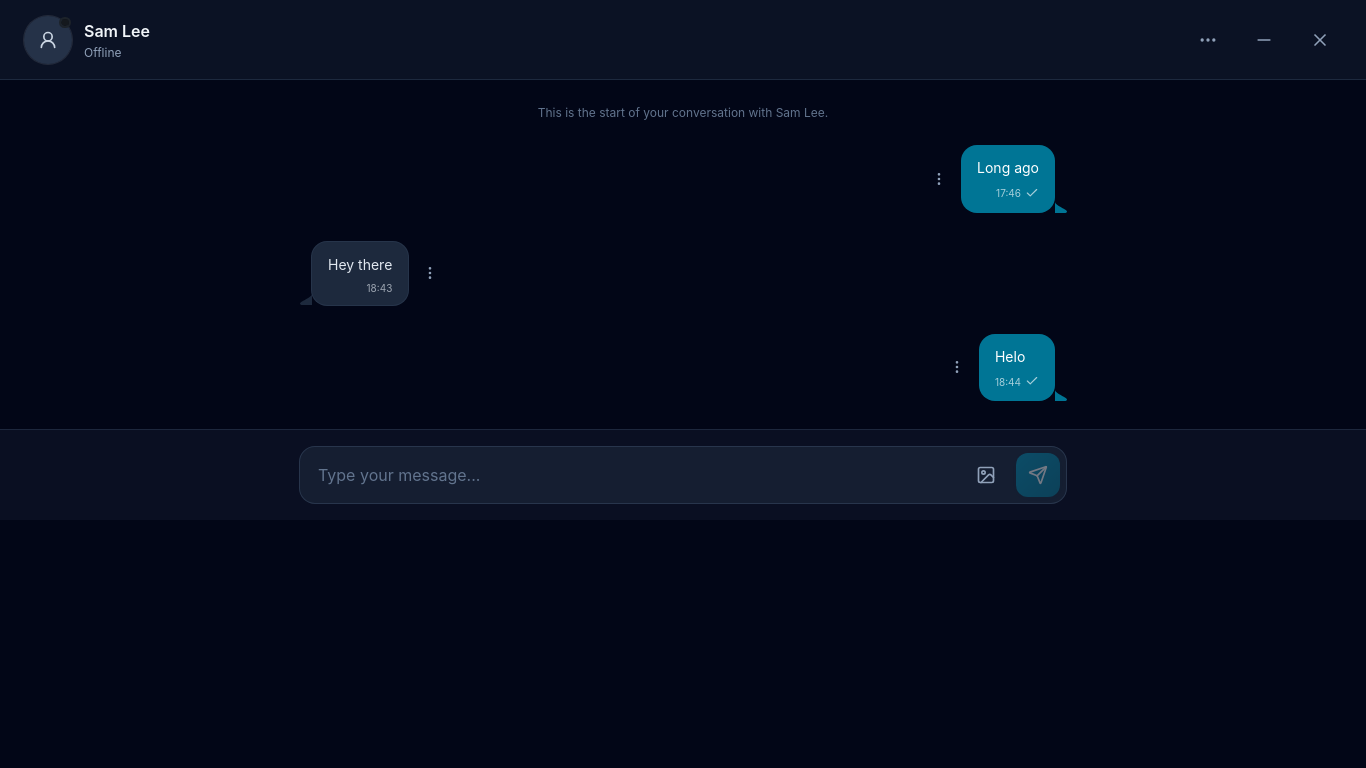
Scenario: message actions › deletes my message for everyone, leaving a placeholder
This screenshot has width=1366, height=768.
Step 1. Click the button named "Message actions" next to "Helo" → (957, 367), box [939,349,975,385]
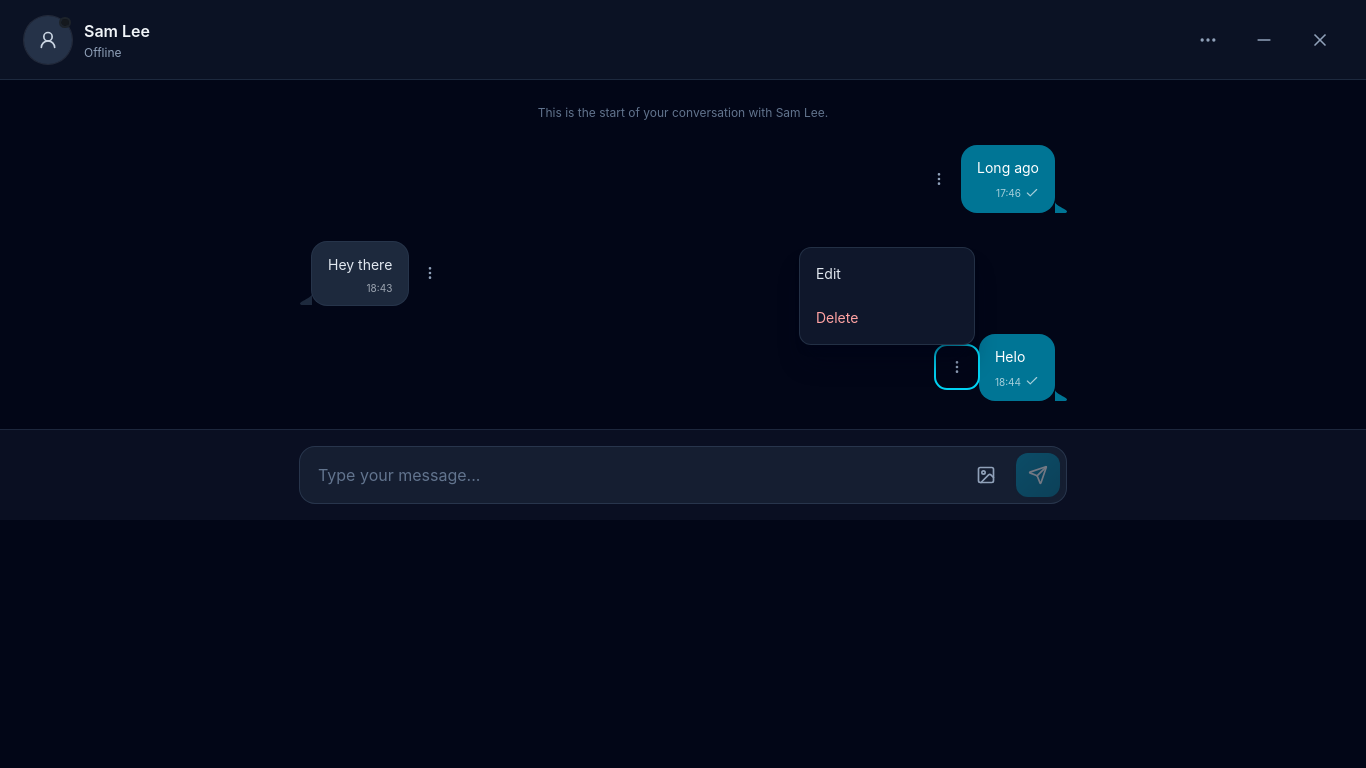
Step 2. Click the button "Delete" → (887, 318), box [804,296,970,340]
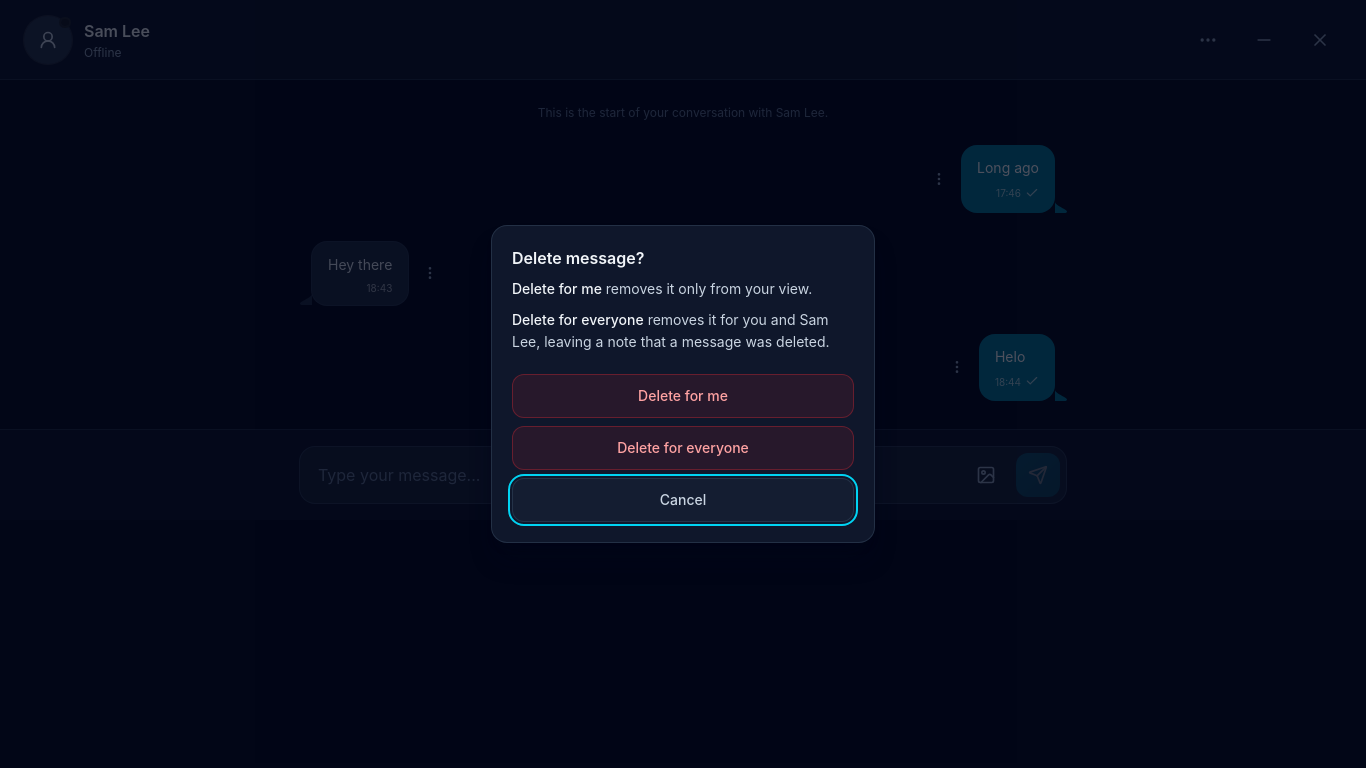
Result: the button "Delete for me" is shown at [512,374,854,418]
Step 3. Click the button "Delete for everyone" → (683, 448), box [512,426,854,470]
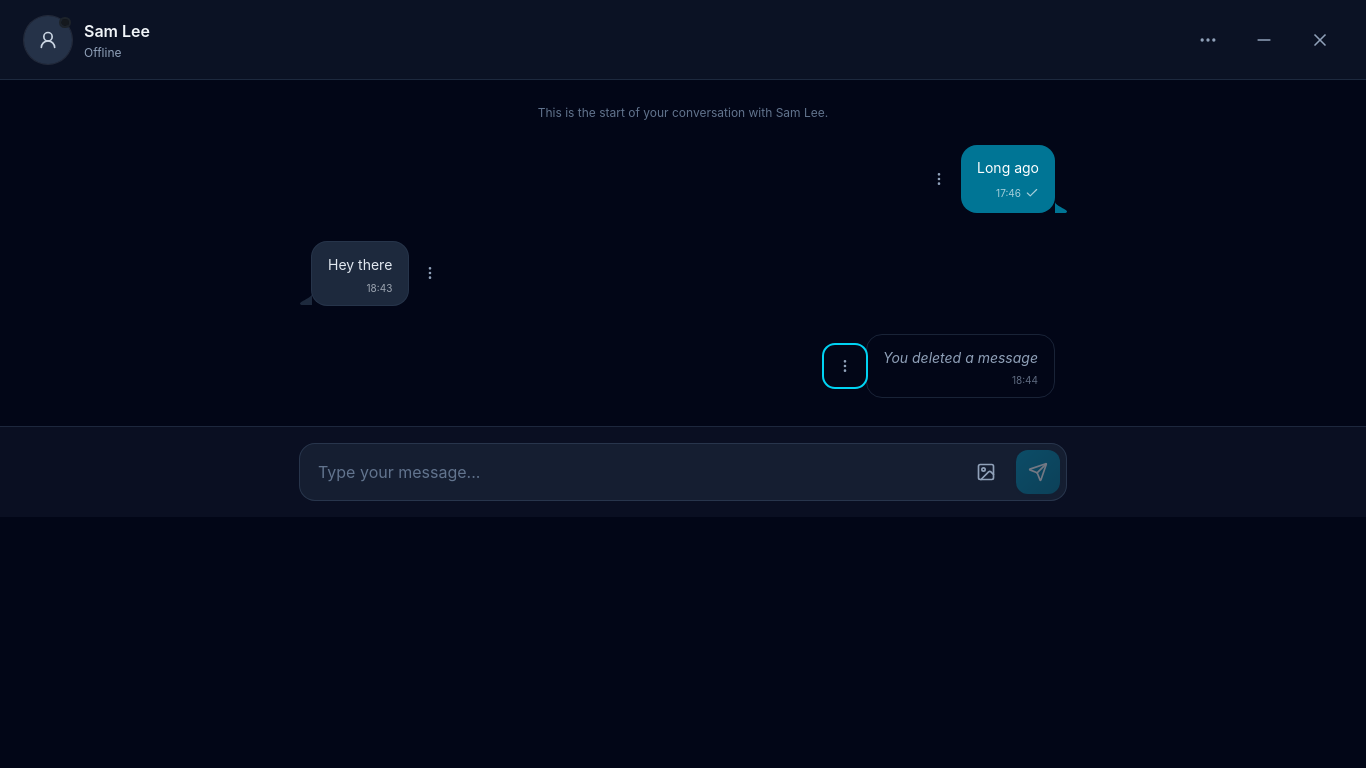
Result: the text "You deleted a message" is shown at [883,346,1038,369]
Result: the text "Helo" is gone
Result: the dialog is gone
